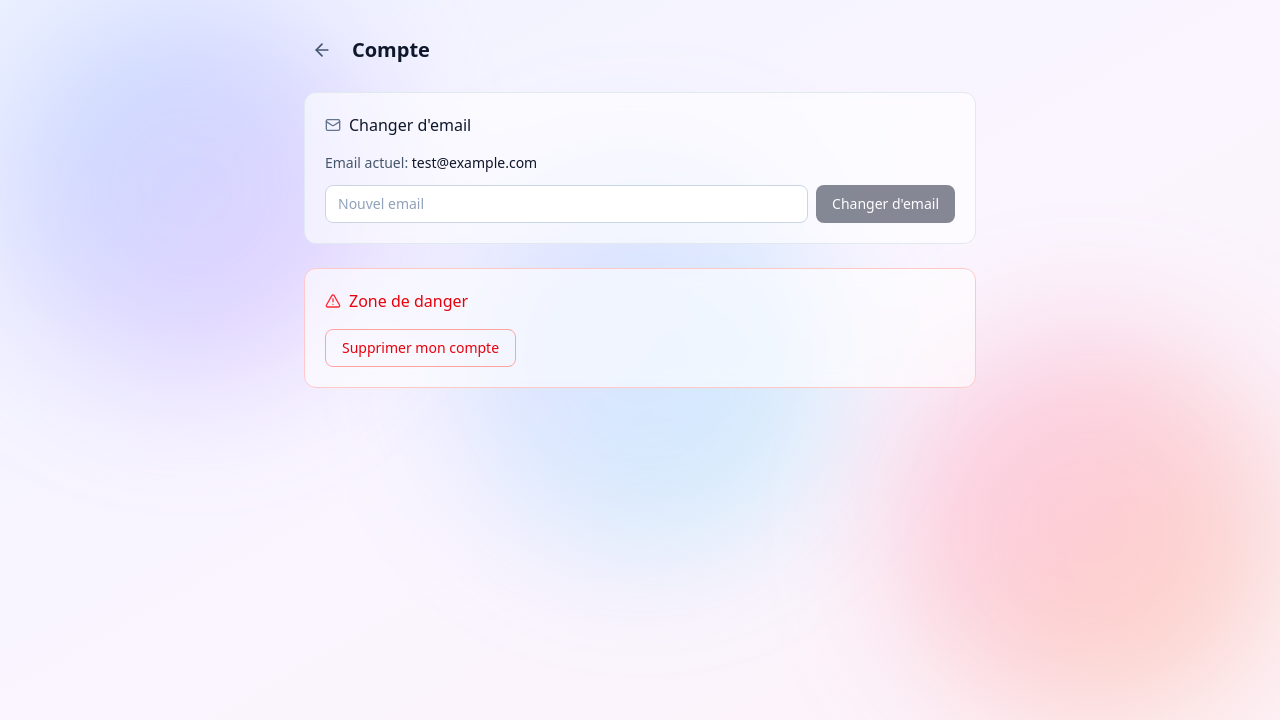
Test: AccountPage › shows email change form and submits
Expected: the heading "Compte" is shown, [352, 36, 430, 64]
Type "new@example.com" into the field with placeholder "Nouvel email" at (567, 204), box [325, 185, 808, 223]
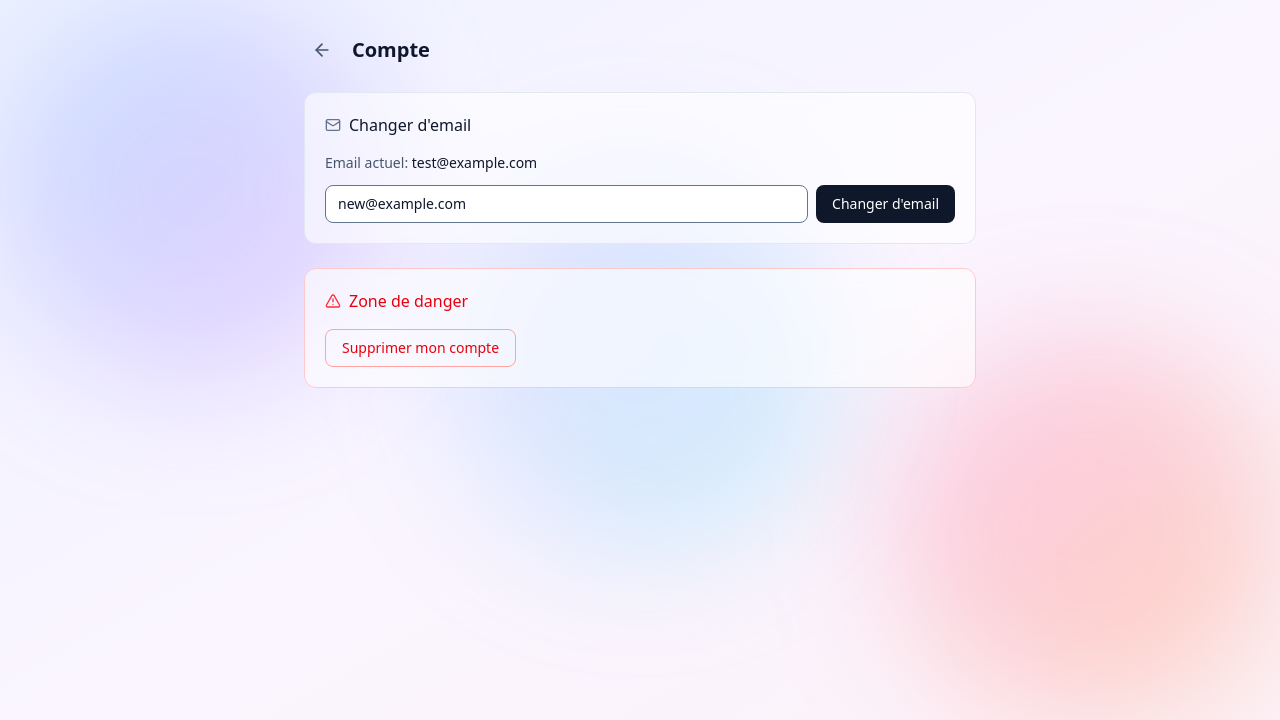
Click the button "Changer d'email" at (886, 204), box [816, 185, 955, 223]
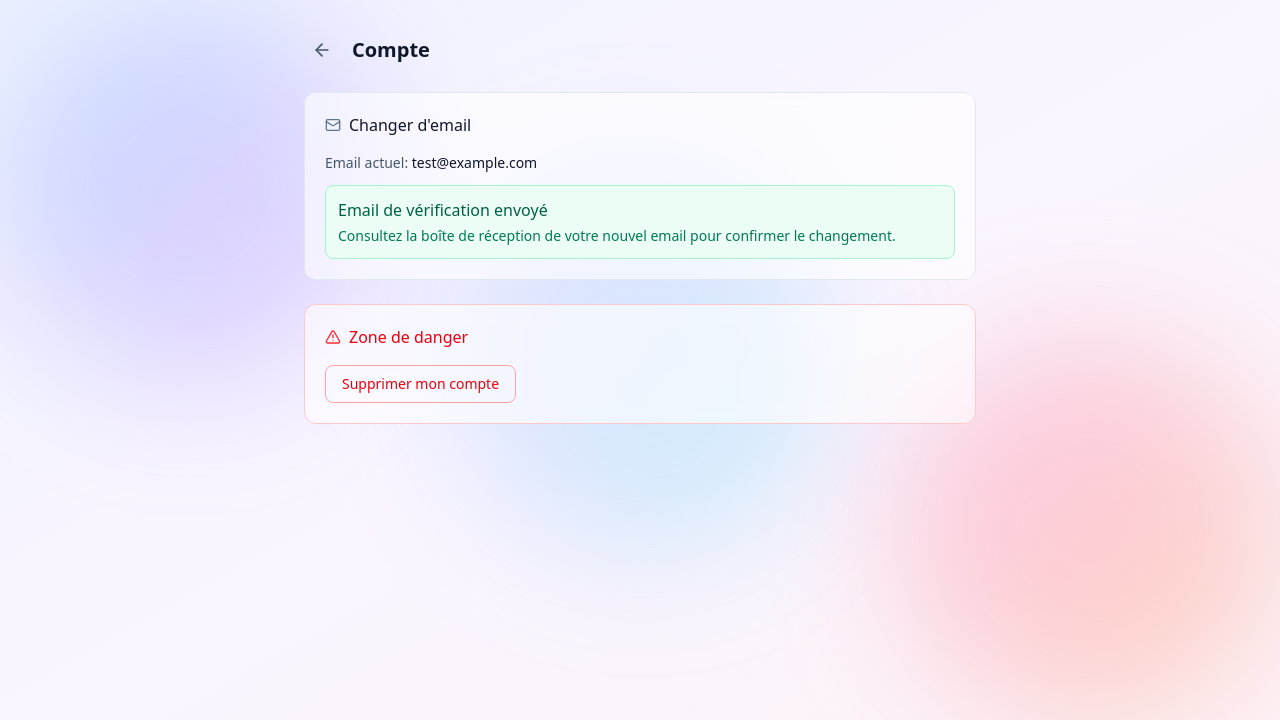
Expected: the text "Email de vérification envoyé" is shown, [338, 199, 548, 221]
